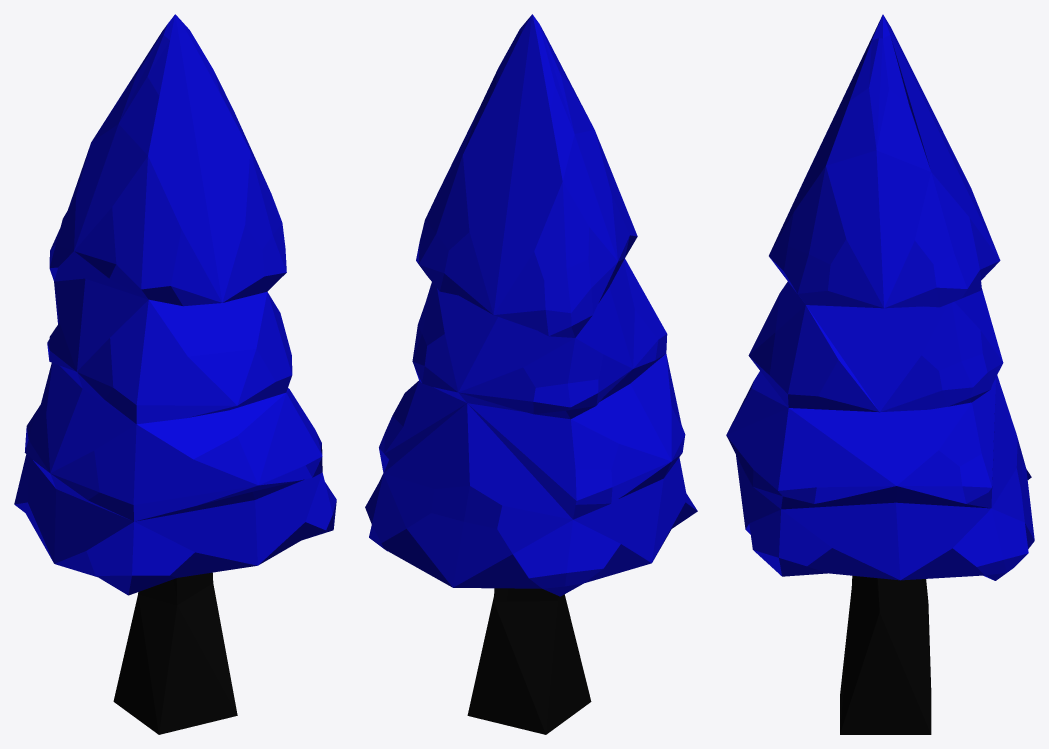
Rendered from pinetree.fbx.
The picture shows the model from 3 angles, left to right: view 1: azimuth 30°, elevation 25°; view 2: azimuth 150°, elevation 25°; view 3: azimuth 270°, elevation 25°; orthographic projection.
Visible parts, largest first — view 1: treeMesh; view 2: treeMesh; view 3: treeMesh.
Part boxes in pixels (x1,y1,x2,y2): treeMesh: [14, 14, 336, 734]; treeMesh: [365, 14, 697, 734]; treeMesh: [726, 14, 1034, 734].
Size of the model in its own units: 0.0534 by 0.1385 by 0.0553.
